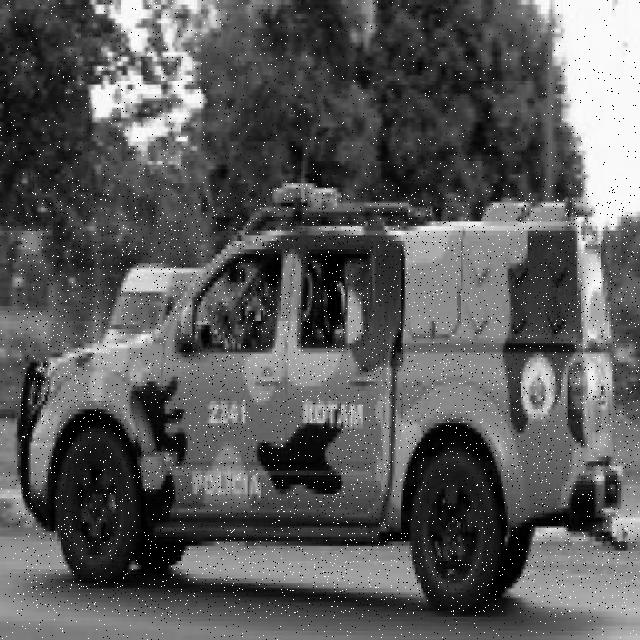Pickup: (17, 184, 639, 616)
